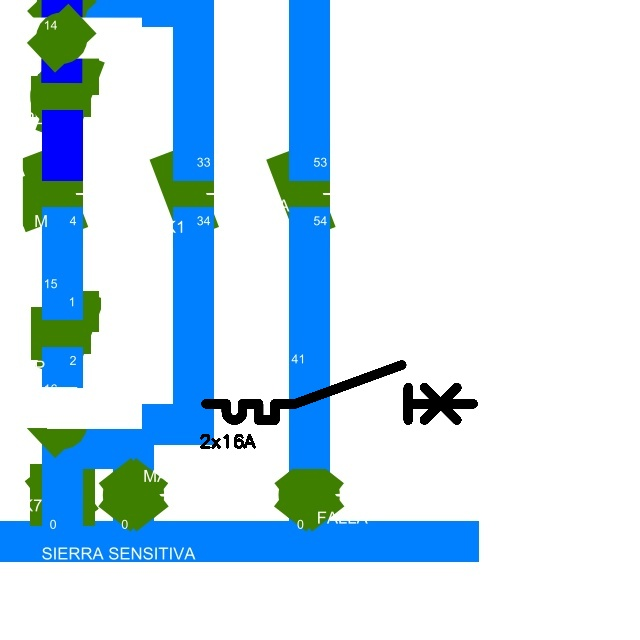interruptor_termomagnetico: (199, 358, 480, 427)
